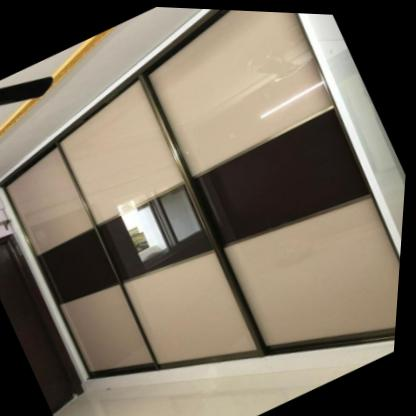Closet: (1, 7, 408, 377)
